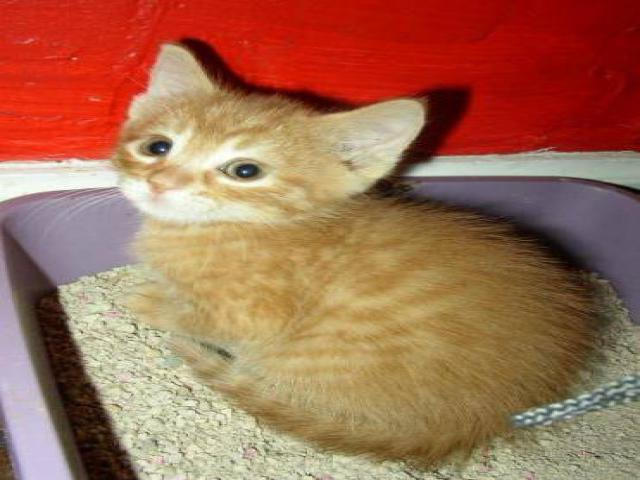cat: (98, 45, 621, 472)
